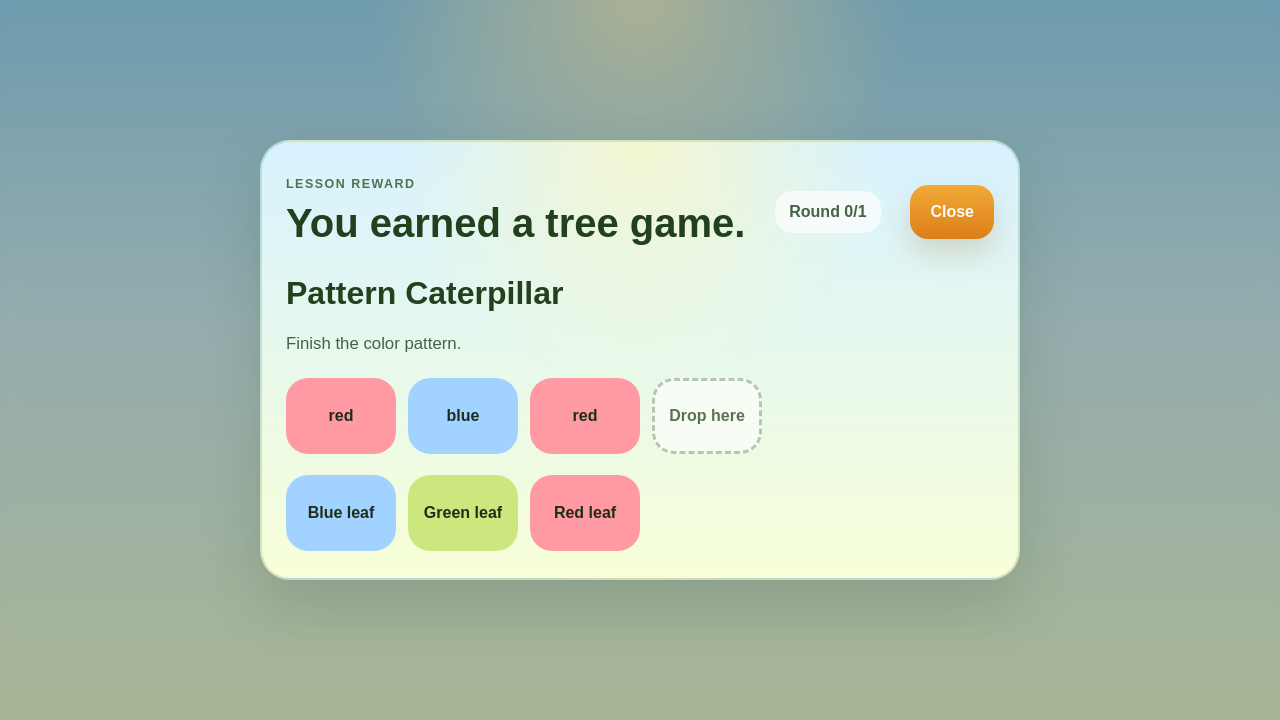
Test case: RewardGameModal › completes Pattern Caterpillar after the required rounds
The image size is (1280, 720).
Click the button "Blue leaf" at [341, 513], box 286,475 -> 396,551
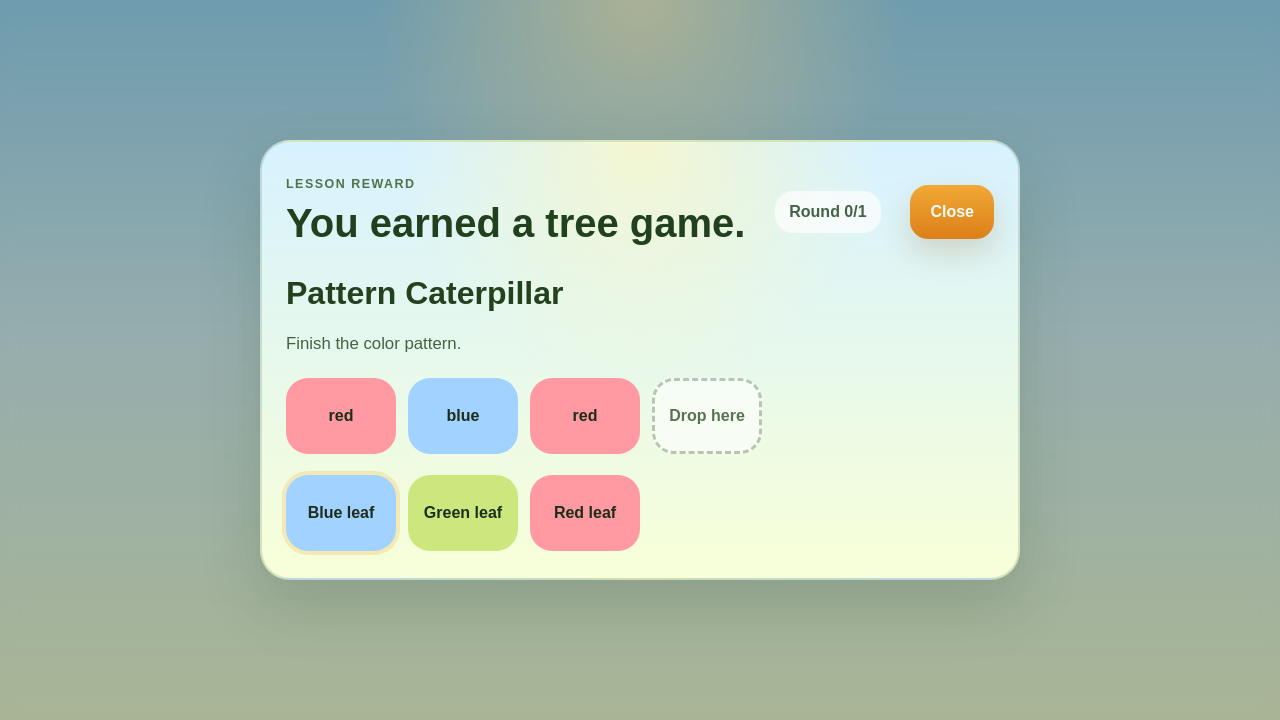
Click the button "Drop here" at [707, 416], box 652,378 -> 762,454
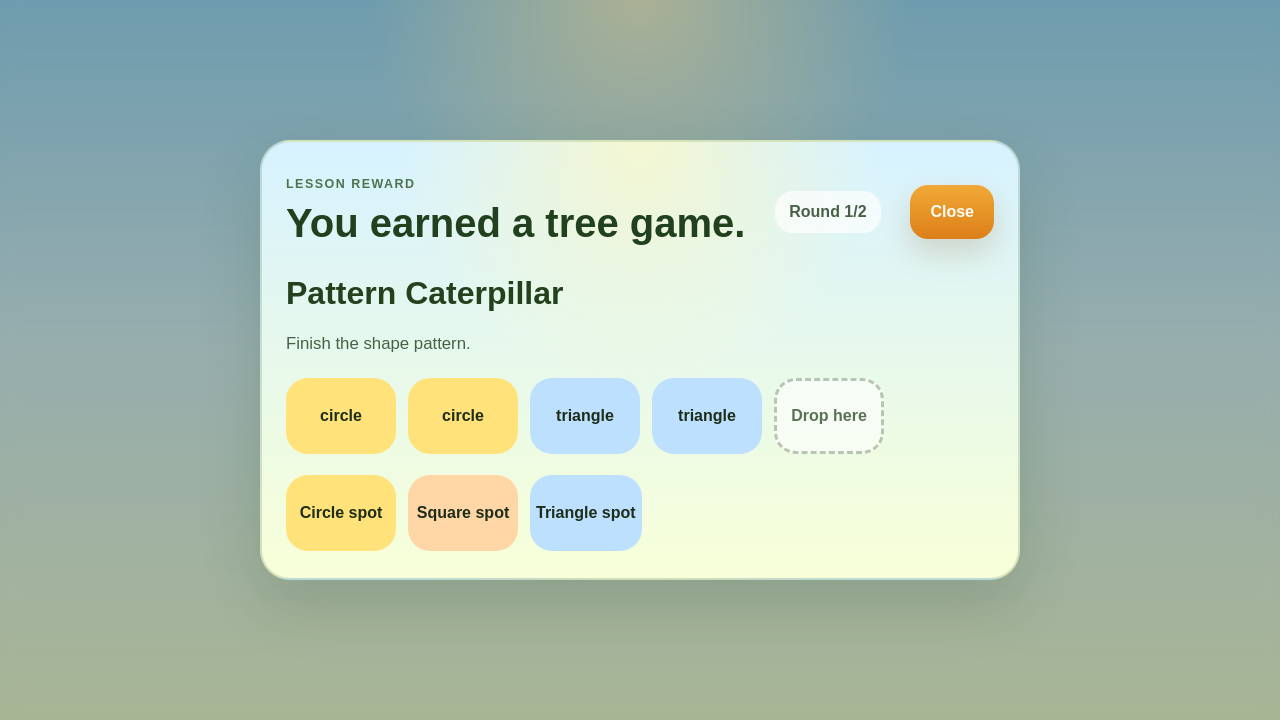
Check: the text "Finish the shape pattern." is shown, box 286,334 -> 471,352
Click the button "Circle spot" at [341, 513], box 286,475 -> 396,551
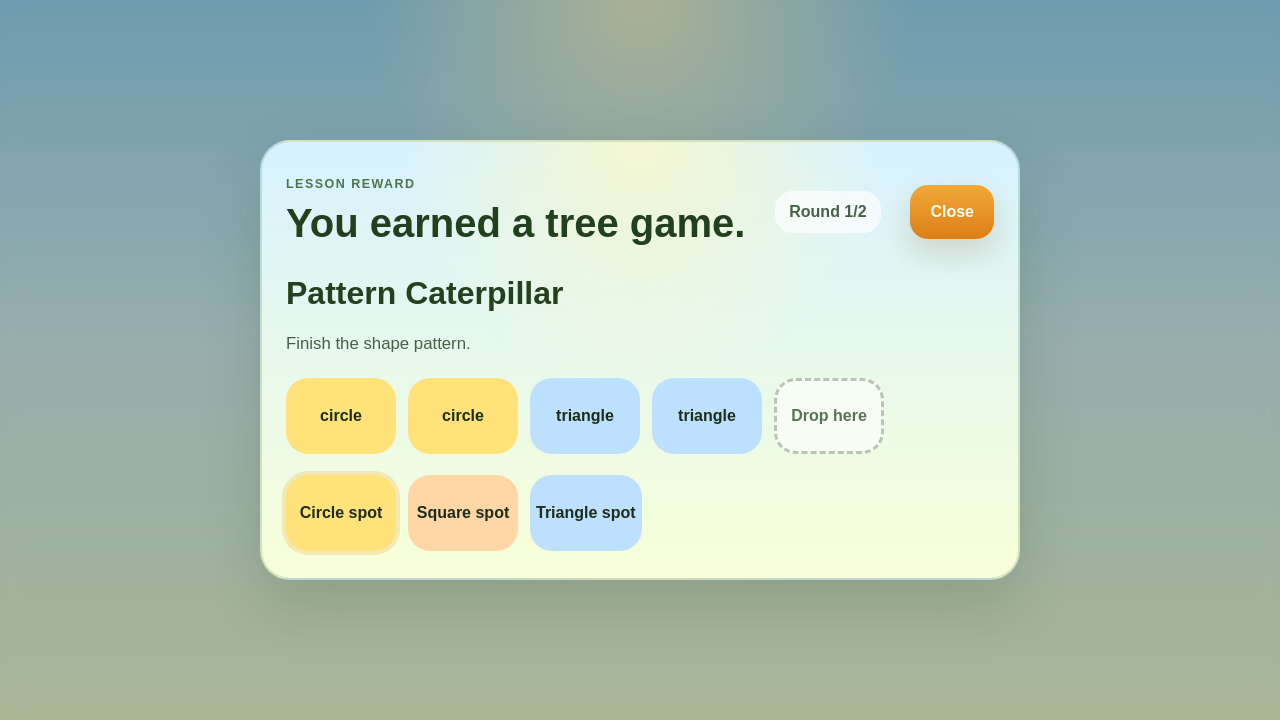
Click the button "Drop here" at [829, 416], box 774,378 -> 884,454
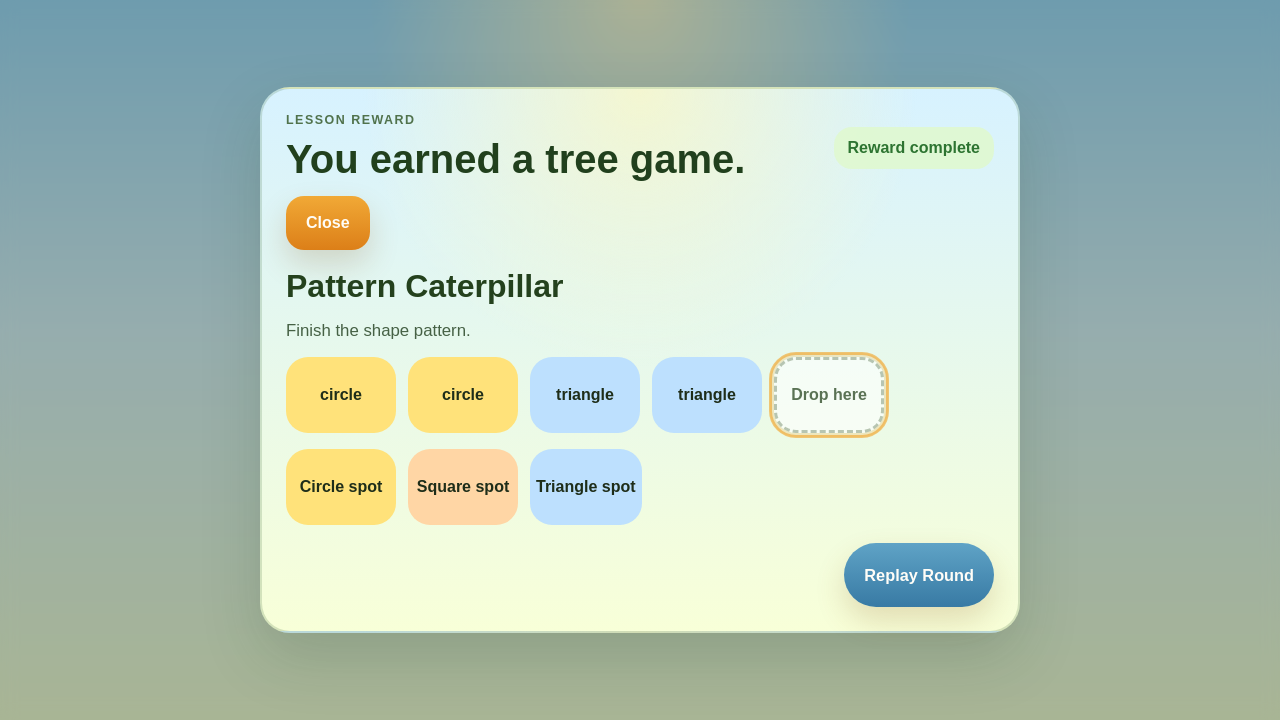
Check: the text "Reward complete" is shown, box 834,126 -> 994,168
